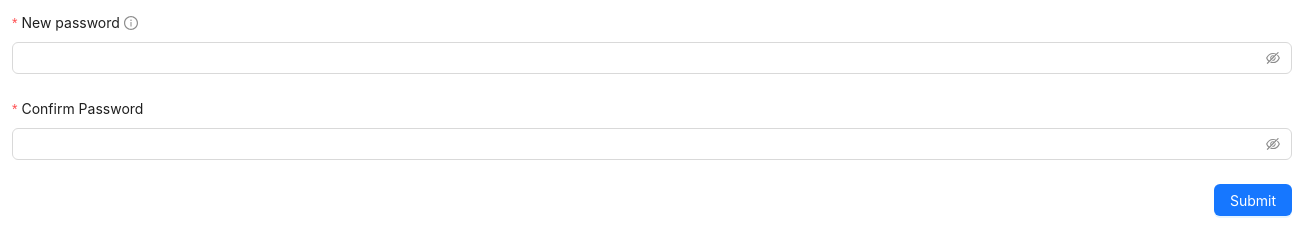
Scenario: UpdatePasswordForm › should display required error when user submits without entering password
This screenshot has width=1304, height=237.
Click the button "Submit" at (1253, 200), box [1214,184,1292,216]
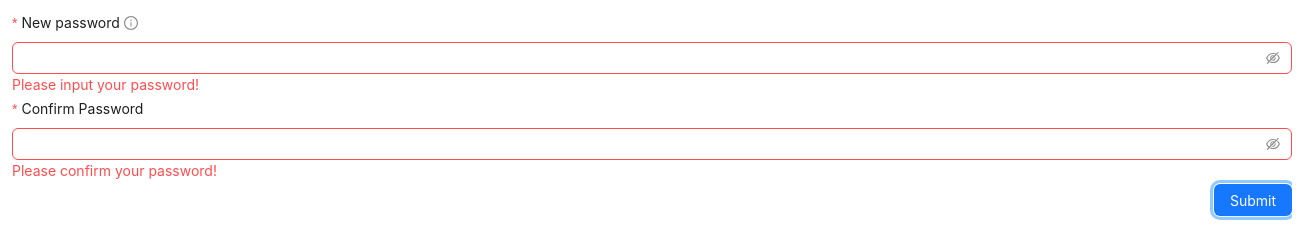
Expected: the text "Please input your password!" is shown, [12,76,199,93]
Expected: the text "Please confirm your password!" is shown, [12,162,217,179]
